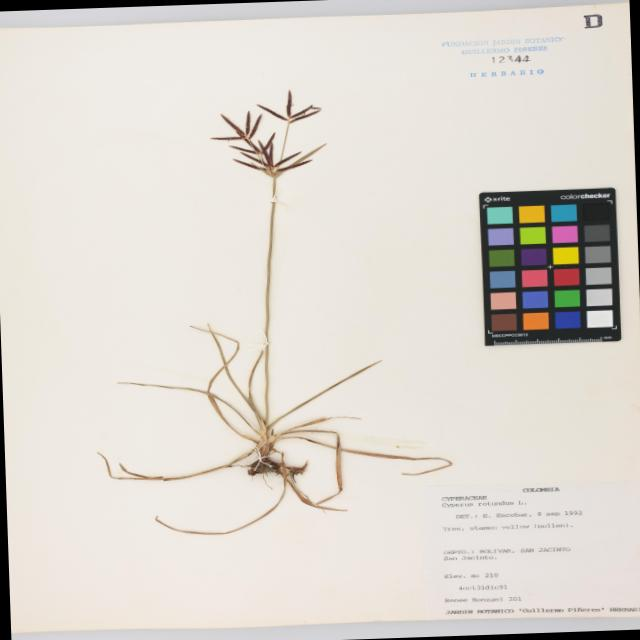cyperus: (196, 84, 343, 190)
